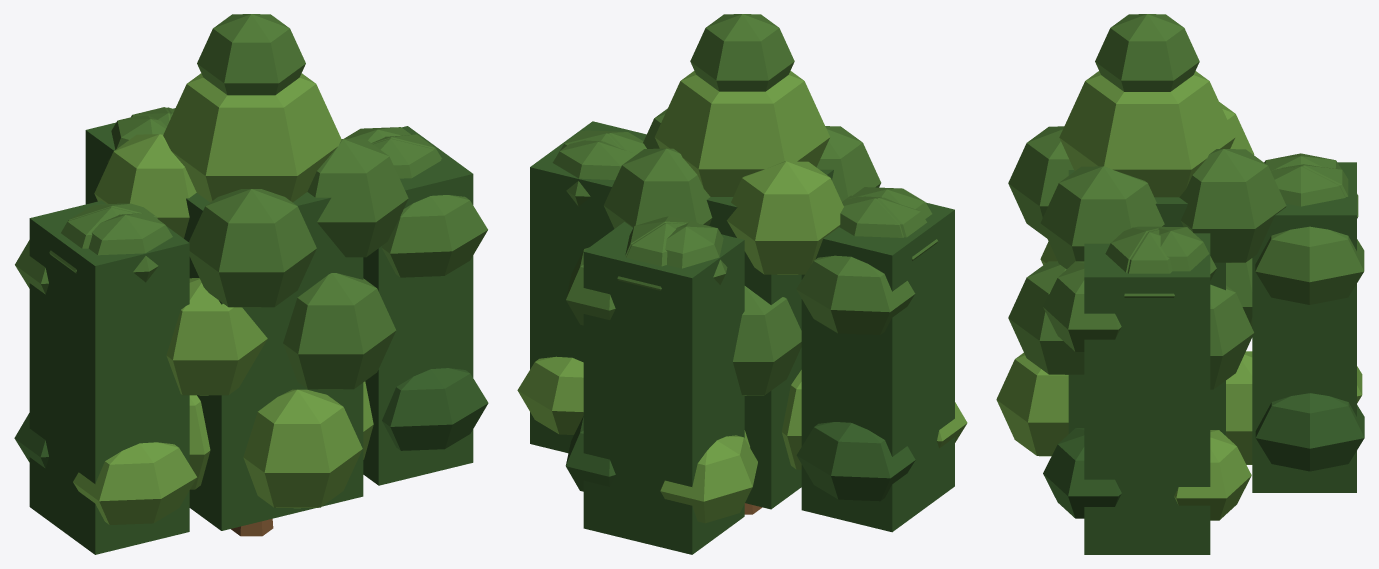
File: hedge_tee.glb
3 views of the same model, side by side, from view 1: azimuth 30°, elevation 25°; view 2: azimuth 150°, elevation 25°; view 3: azimuth 270°, elevation 25° (orthographic). The views are drawn at different scales.
Visible parts, largest first — view 1: wall_hedge_tee; view 2: wall_hedge_tee; view 3: wall_hedge_tee.
Boxes of the visible parts, x1,y1,x2,y2 form: wall_hedge_tee: (14,14,488,554); wall_hedge_tee: (517,14,967,554); wall_hedge_tee: (996,14,1364,554).
Bounding box in the file's own units: 2.07 × 2.6 × 1.76.
